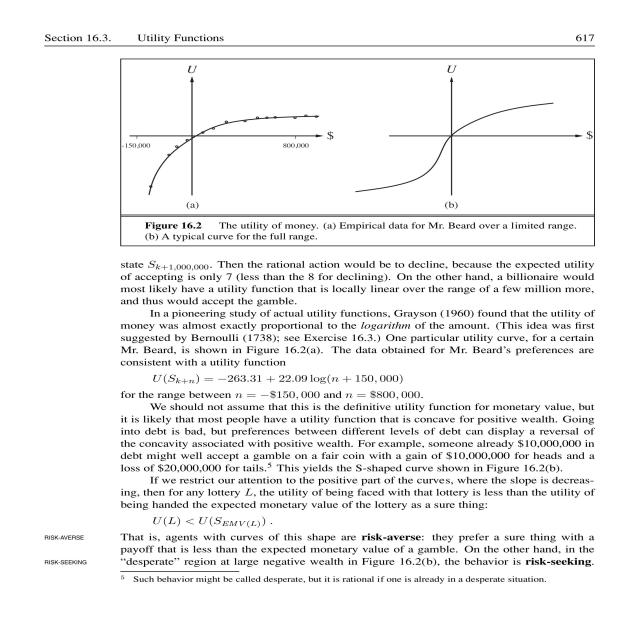diagram: (118, 59, 615, 246)
